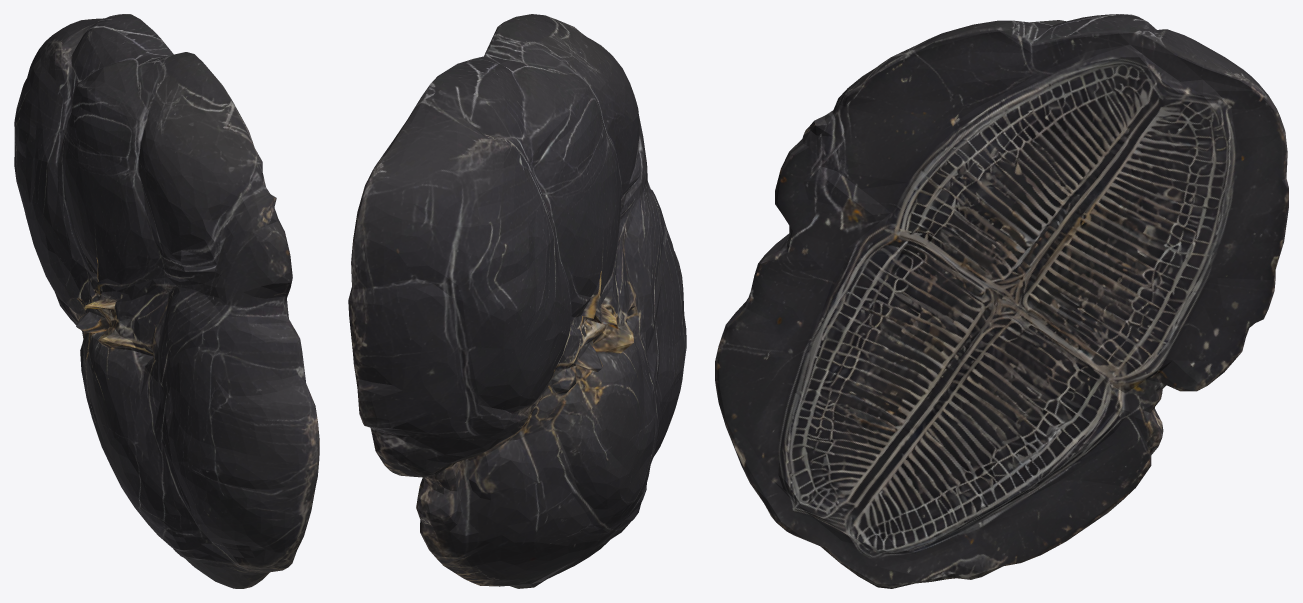
File: planktonic_diatoms_001.glb
3 views of the same model, side by side, from view 1: azimuth 30°, elevation 25°; view 2: azimuth 150°, elevation 25°; view 3: azimuth 270°, elevation 25° (orthographic). The views are drawn at different scales.
Parts seen in each view (by area): view 1: tripo_node_54ca6b02-0313-4f13-b6a6-b52cf1ed78d4; view 2: tripo_node_54ca6b02-0313-4f13-b6a6-b52cf1ed78d4; view 3: tripo_node_54ca6b02-0313-4f13-b6a6-b52cf1ed78d4.
Boxes of the visible parts, x1=… form: tripo_node_54ca6b02-0313-4f13-b6a6-b52cf1ed78d4: x1=14, y1=14, x2=319, y2=588; tripo_node_54ca6b02-0313-4f13-b6a6-b52cf1ed78d4: x1=348, y1=14, x2=686, y2=588; tripo_node_54ca6b02-0313-4f13-b6a6-b52cf1ed78d4: x1=715, y1=14, x2=1288, y2=588.
Bounding box in the file's own units: 0.2213 × 0.949 × 0.8777.
1 material, 1 textured.
